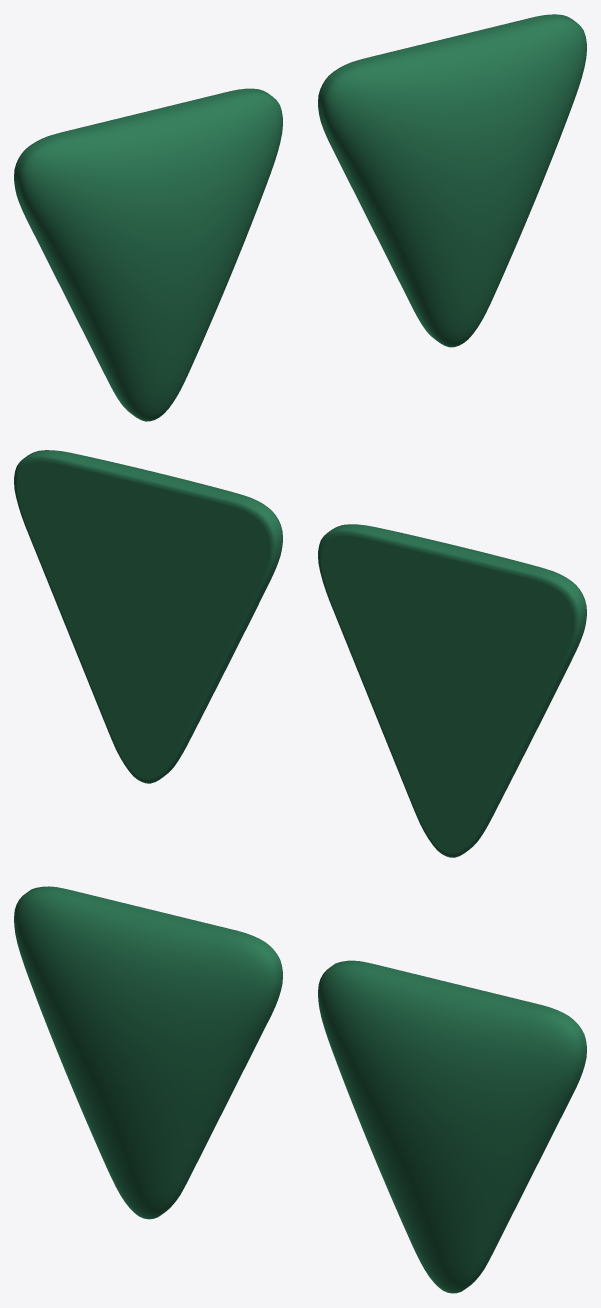
File: matched-pair-v1.glb
The picture shows the model from 3 angles, top to bottom: view 1: azimuth 30°, elevation 25°; view 2: azimuth 150°, elevation 25°; view 3: azimuth 330°, elevation 25°; orthographic projection.
Parts seen in each view (by area): view 1: Rounded-Triangle Cabochon 20x18x4mm, Rounded-Triangle Cabochon 20x18x4mm.001; view 2: Rounded-Triangle Cabochon 20x18x4mm, Rounded-Triangle Cabochon 20x18x4mm.001; view 3: Rounded-Triangle Cabochon 20x18x4mm.001, Rounded-Triangle Cabochon 20x18x4mm.
Boxes of the visible parts, x1,y1,x2,y2 form: Rounded-Triangle Cabochon 20x18x4mm: (14,88,282,421); Rounded-Triangle Cabochon 20x18x4mm.001: (318,14,586,347); Rounded-Triangle Cabochon 20x18x4mm: (318,524,586,857); Rounded-Triangle Cabochon 20x18x4mm.001: (14,450,282,783); Rounded-Triangle Cabochon 20x18x4mm.001: (318,960,586,1293); Rounded-Triangle Cabochon 20x18x4mm: (14,886,282,1219).
Bounding box in the file's own units: 0.0388 × 0.02 × 0.00398.
